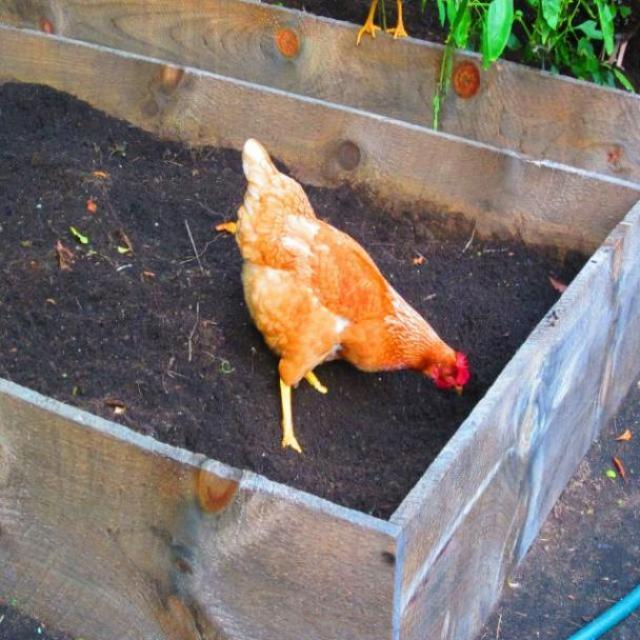Chicken: (237, 136, 471, 416)
